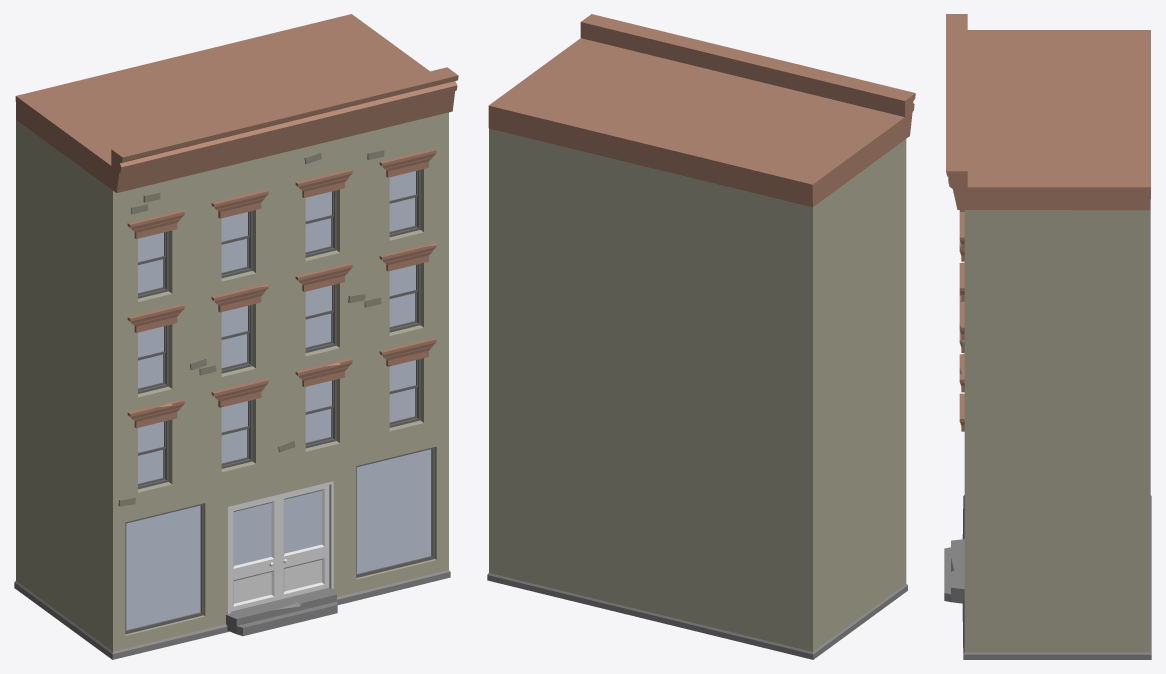
Rendered from Building Green.glb.
3 views of the same model, side by side, from view 1: azimuth 30°, elevation 25°; view 2: azimuth 150°, elevation 25°; view 3: azimuth 270°, elevation 25° (orthographic). The views are drawn at different scales.
Visible parts, largest first — view 1: BuildingGreen; view 2: BuildingGreen; view 3: BuildingGreen.
Boxes of the visible parts, x1,y1,x2,y2 form: BuildingGreen: (14, 14, 458, 659); BuildingGreen: (487, 14, 915, 659); BuildingGreen: (944, 14, 1151, 659).
Bounding box in the file's own units: 2.42 × 3.48 × 1.34.
